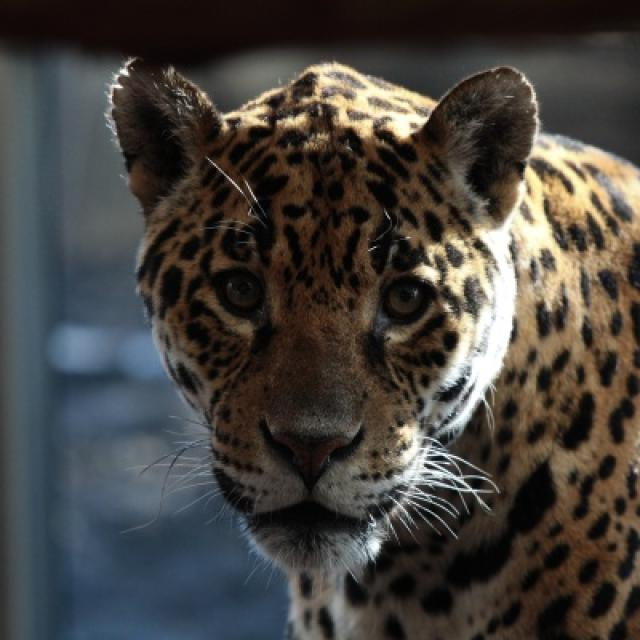Jaguar: (106, 58, 638, 638)
